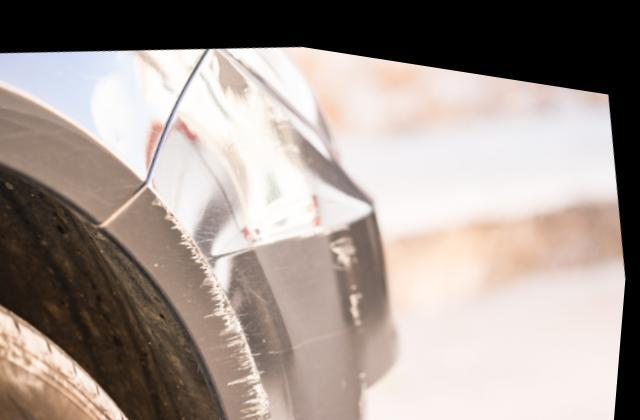scratch: (153, 189, 282, 420), (326, 210, 367, 328)
